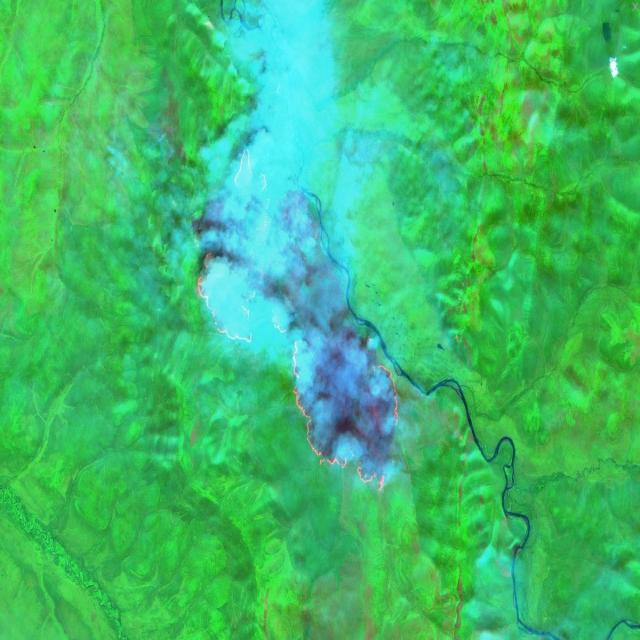fire: (194, 137, 406, 498)
